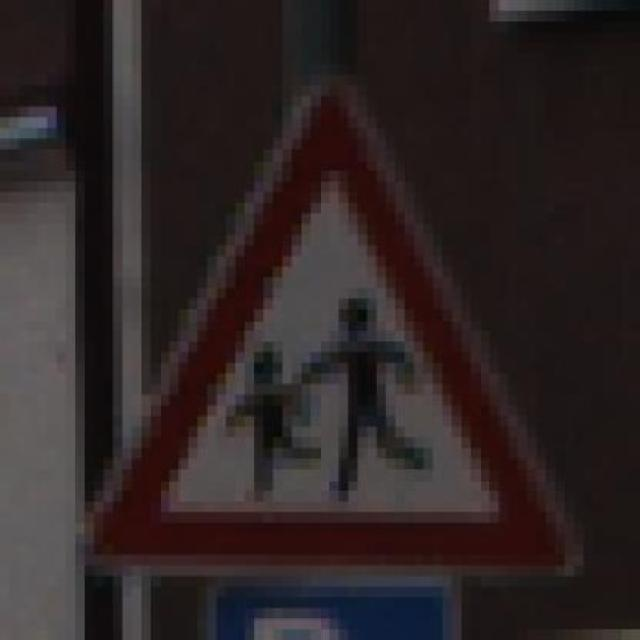Beware of children: (70, 70, 578, 604)
